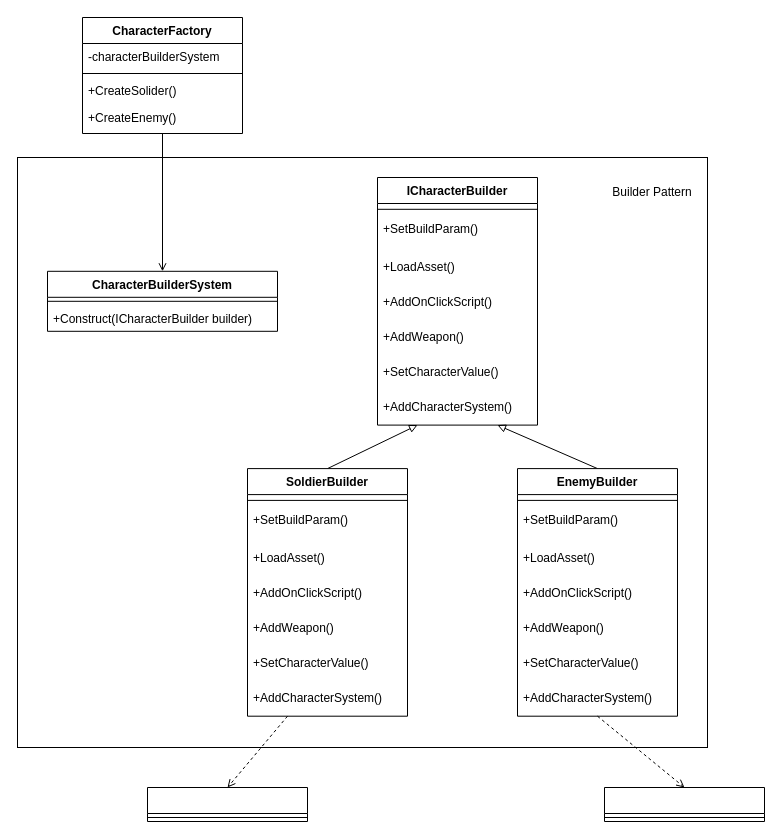
Some shapes in this 782 by 839 pixel diagram are drawn without their labels. The shapes that lost their labels are listed below. From the top down, each one's centre as x and y in pixels, then its label:
At point 227,804: "ISoldier".
At point 684,804: "IEnemy".
